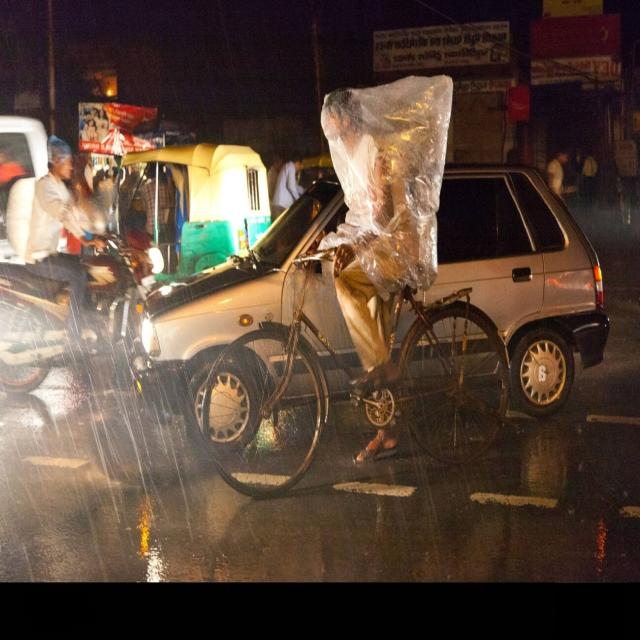autorickshaw: (120, 143, 270, 280)
bicycle: (201, 76, 509, 497)
motorcycle: (0, 136, 162, 393)
